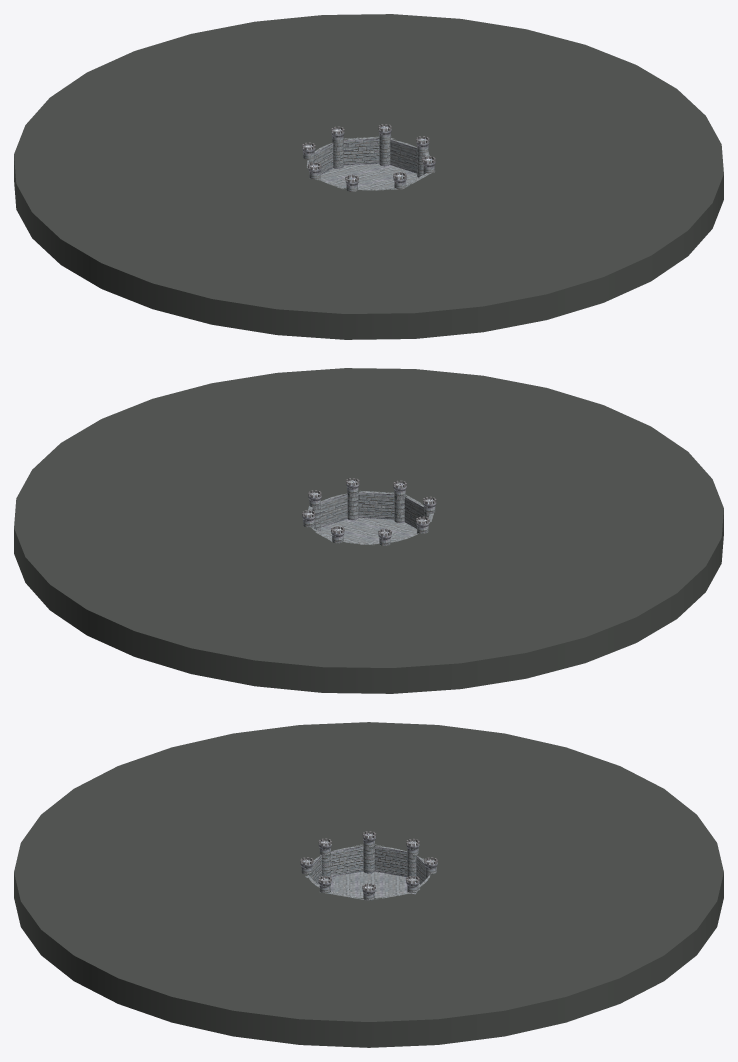
Rendered from background2.fbx.
The picture shows the model from 3 angles, top to bottom: view 1: azimuth 30°, elevation 25°; view 2: azimuth 150°, elevation 25°; view 3: azimuth 270°, elevation 25°; orthographic projection.
Visible parts, largest first — view 1: Tube001, Box002, Box015, Box006; view 2: Tube001, Box002, Box013, Box012; view 3: Tube001, Box002, Box007, Box017.
Part boxes in pixels (x1,y1,x2,y2): Tube001: [14, 14, 723, 339]; Box002: [320, 164, 417, 189]; Box015: [343, 136, 379, 165]; Box006: [390, 138, 416, 173]; Tube001: [14, 368, 723, 693]; Box002: [320, 518, 416, 543]; Box013: [358, 490, 394, 519]; Box012: [320, 493, 347, 527]; Tube001: [14, 722, 723, 1047]; Box002: [318, 871, 419, 897]; Box007: [331, 844, 363, 876]; Box017: [375, 844, 407, 877].
Bounding box in the file's own units: 40000 × 2343 × 40000.
4 materials, 4 textured.
